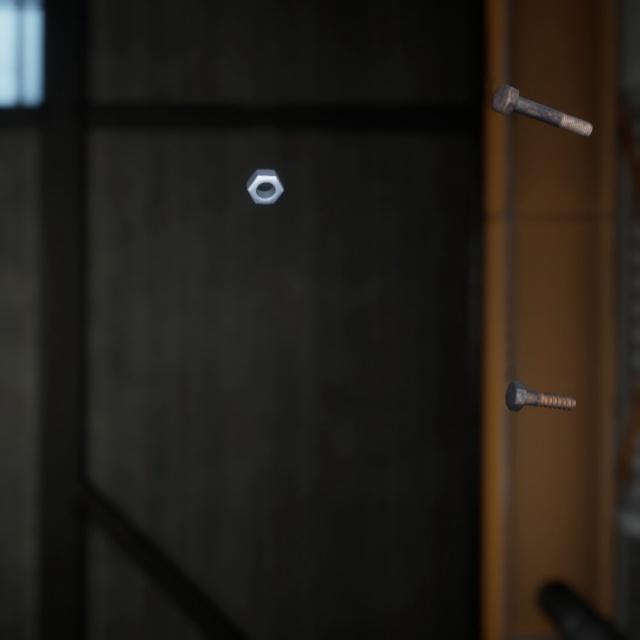bolt: (488, 67, 597, 129), (500, 356, 581, 396)
nut: (241, 149, 288, 194)
